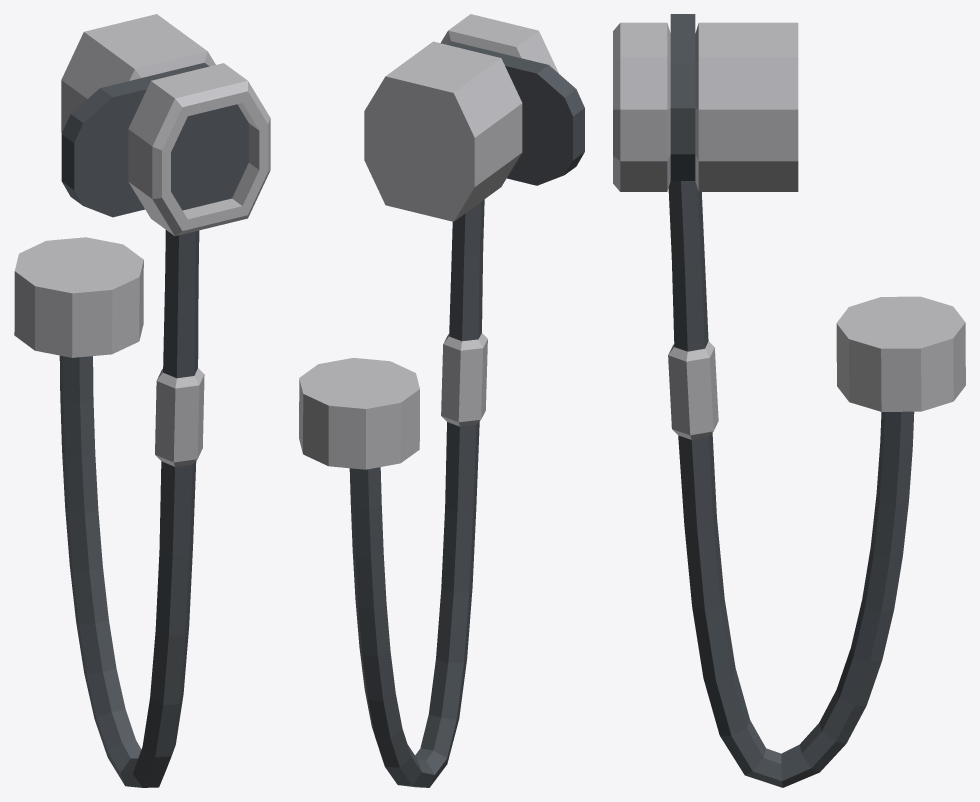
Rendered from Dropship_02_Cable.fbx.
3 renders of one model, left to right at view 1: azimuth 30°, elevation 25°; view 2: azimuth 150°, elevation 25°; view 3: azimuth 270°, elevation 25°, orthographic. The views are drawn at different scales.
Parts seen in each view (by area): view 1: Dropship_02_Cable; view 2: Dropship_02_Cable; view 3: Dropship_02_Cable.
Boxes of the visible parts, box(x1,y1,x2,y2) form: Dropship_02_Cable: box(14, 14, 270, 787); Dropship_02_Cable: box(299, 14, 584, 787); Dropship_02_Cable: box(613, 14, 965, 787).
Size of the model in its own units: 103 by 422 by 182.
1 material, 1 textured.
